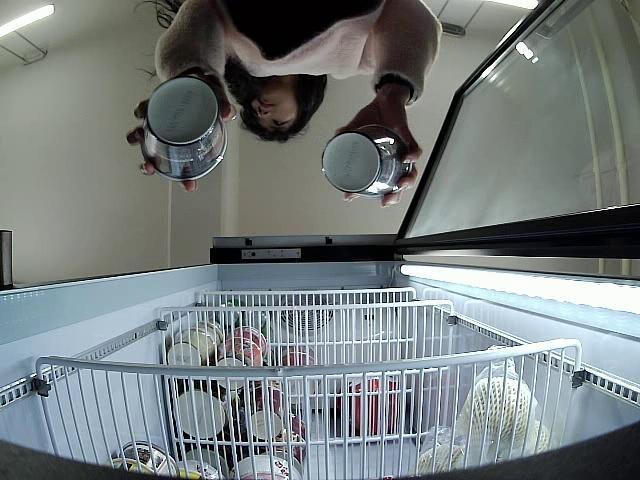08_buldak_S: (140, 74, 228, 182), (322, 123, 415, 198)
